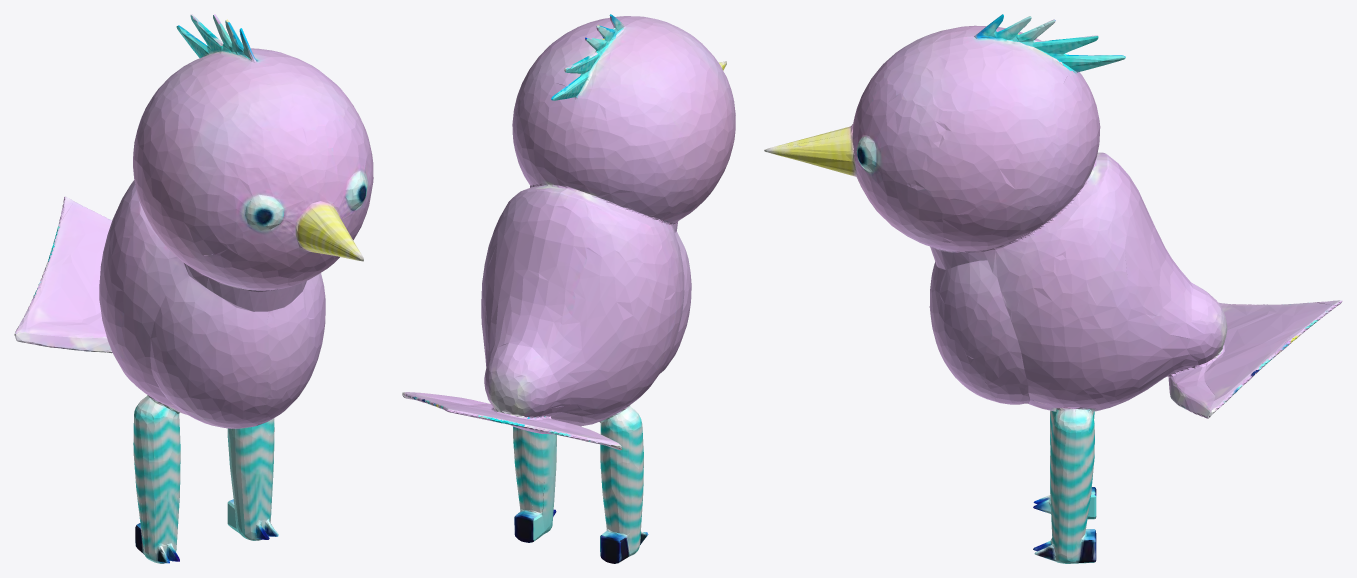
The model's file is creature-135.lod.glb.
3 views of the same model, side by side, from view 1: azimuth 30°, elevation 25°; view 2: azimuth 150°, elevation 25°; view 3: azimuth 270°, elevation 25° (orthographic). The views are drawn at different scales.
Visible parts, largest first — view 1: tmp_vu67eij.ply; view 2: tmp_vu67eij.ply; view 3: tmp_vu67eij.ply.
Boxes of the visible parts, left/top/right/bottom form: tmp_vu67eij.ply: left=14, top=14, right=373, bottom=563; tmp_vu67eij.ply: left=402, top=14, right=735, bottom=563; tmp_vu67eij.ply: left=764, top=14, right=1342, bottom=563.
Bounding box in the file's own units: 0.9001 × 1.99 × 1.99.
1 material, 1 textured.
